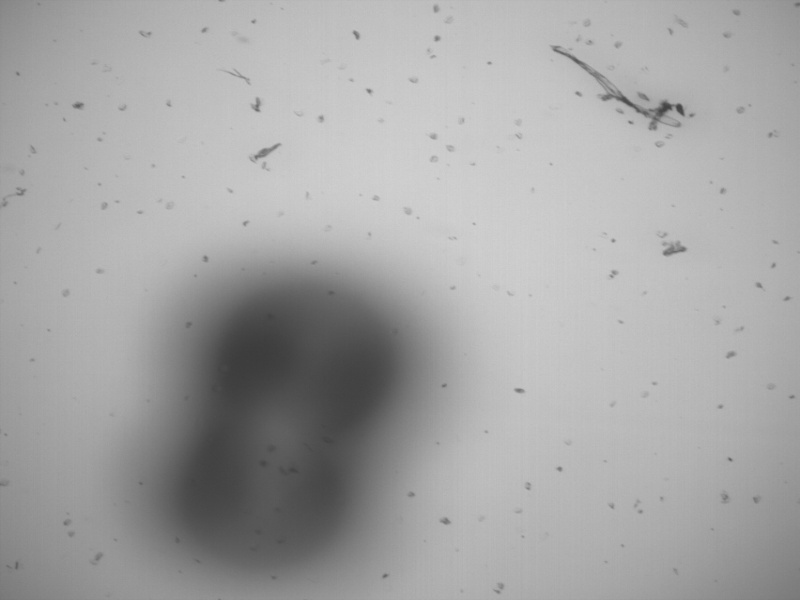bead: (217, 275, 406, 441), (175, 401, 355, 571)
fiber: (548, 41, 685, 136), (249, 141, 286, 165), (217, 65, 254, 87)
